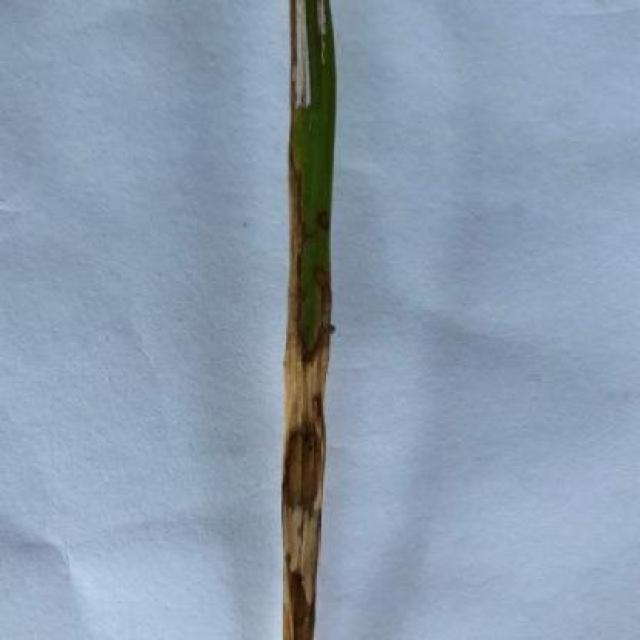Brown_Spot: (274, 0, 344, 640)
